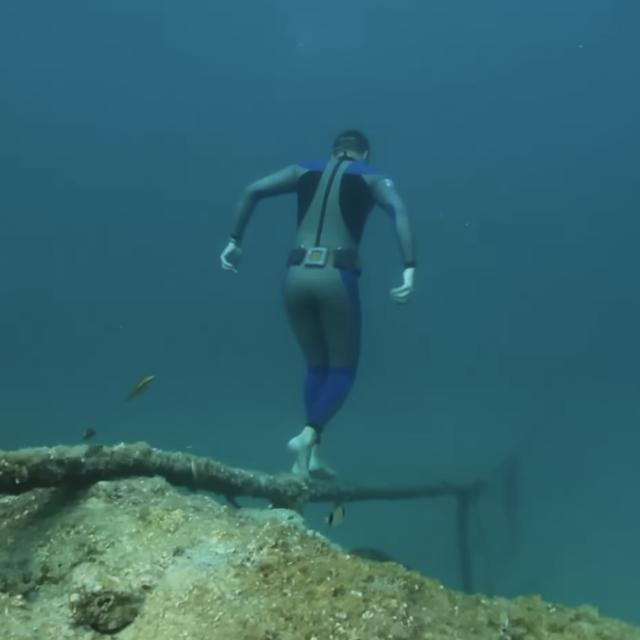human: (218, 122, 426, 490)
